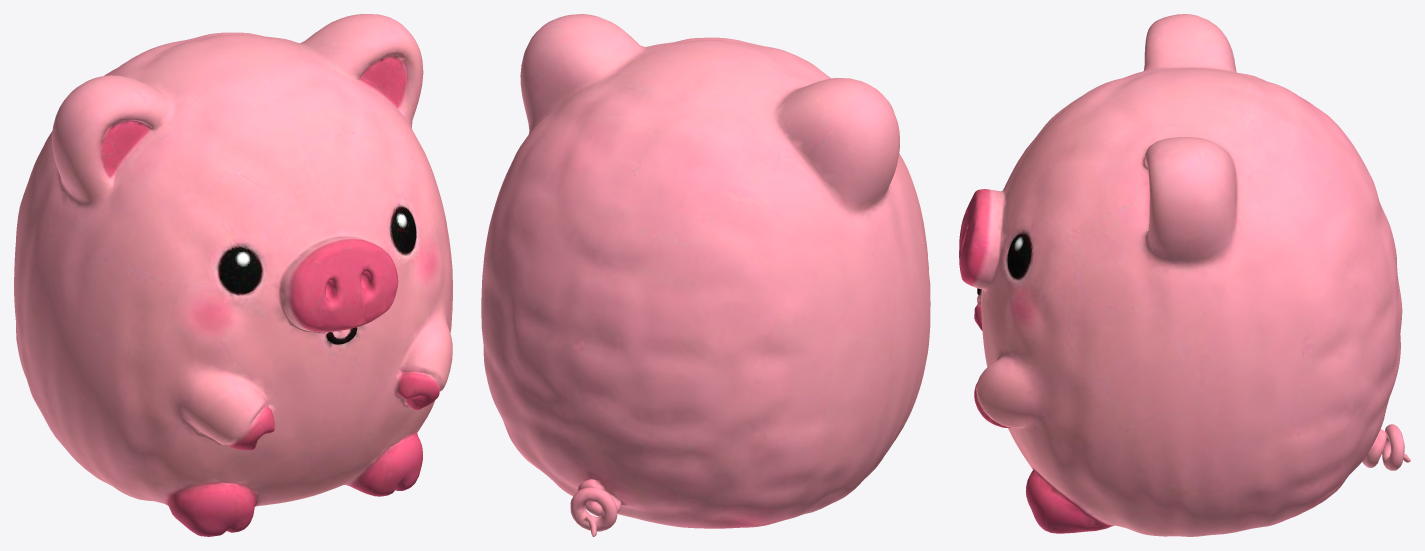
3 views of the same model, side by side, from view 1: azimuth 30°, elevation 25°; view 2: azimuth 150°, elevation 25°; view 3: azimuth 270°, elevation 25° (orthographic). The views are drawn at different scales.
Bounding box in the file's own units: 1.78 × 1.88 × 1.9.
1 material, 1 textured.
